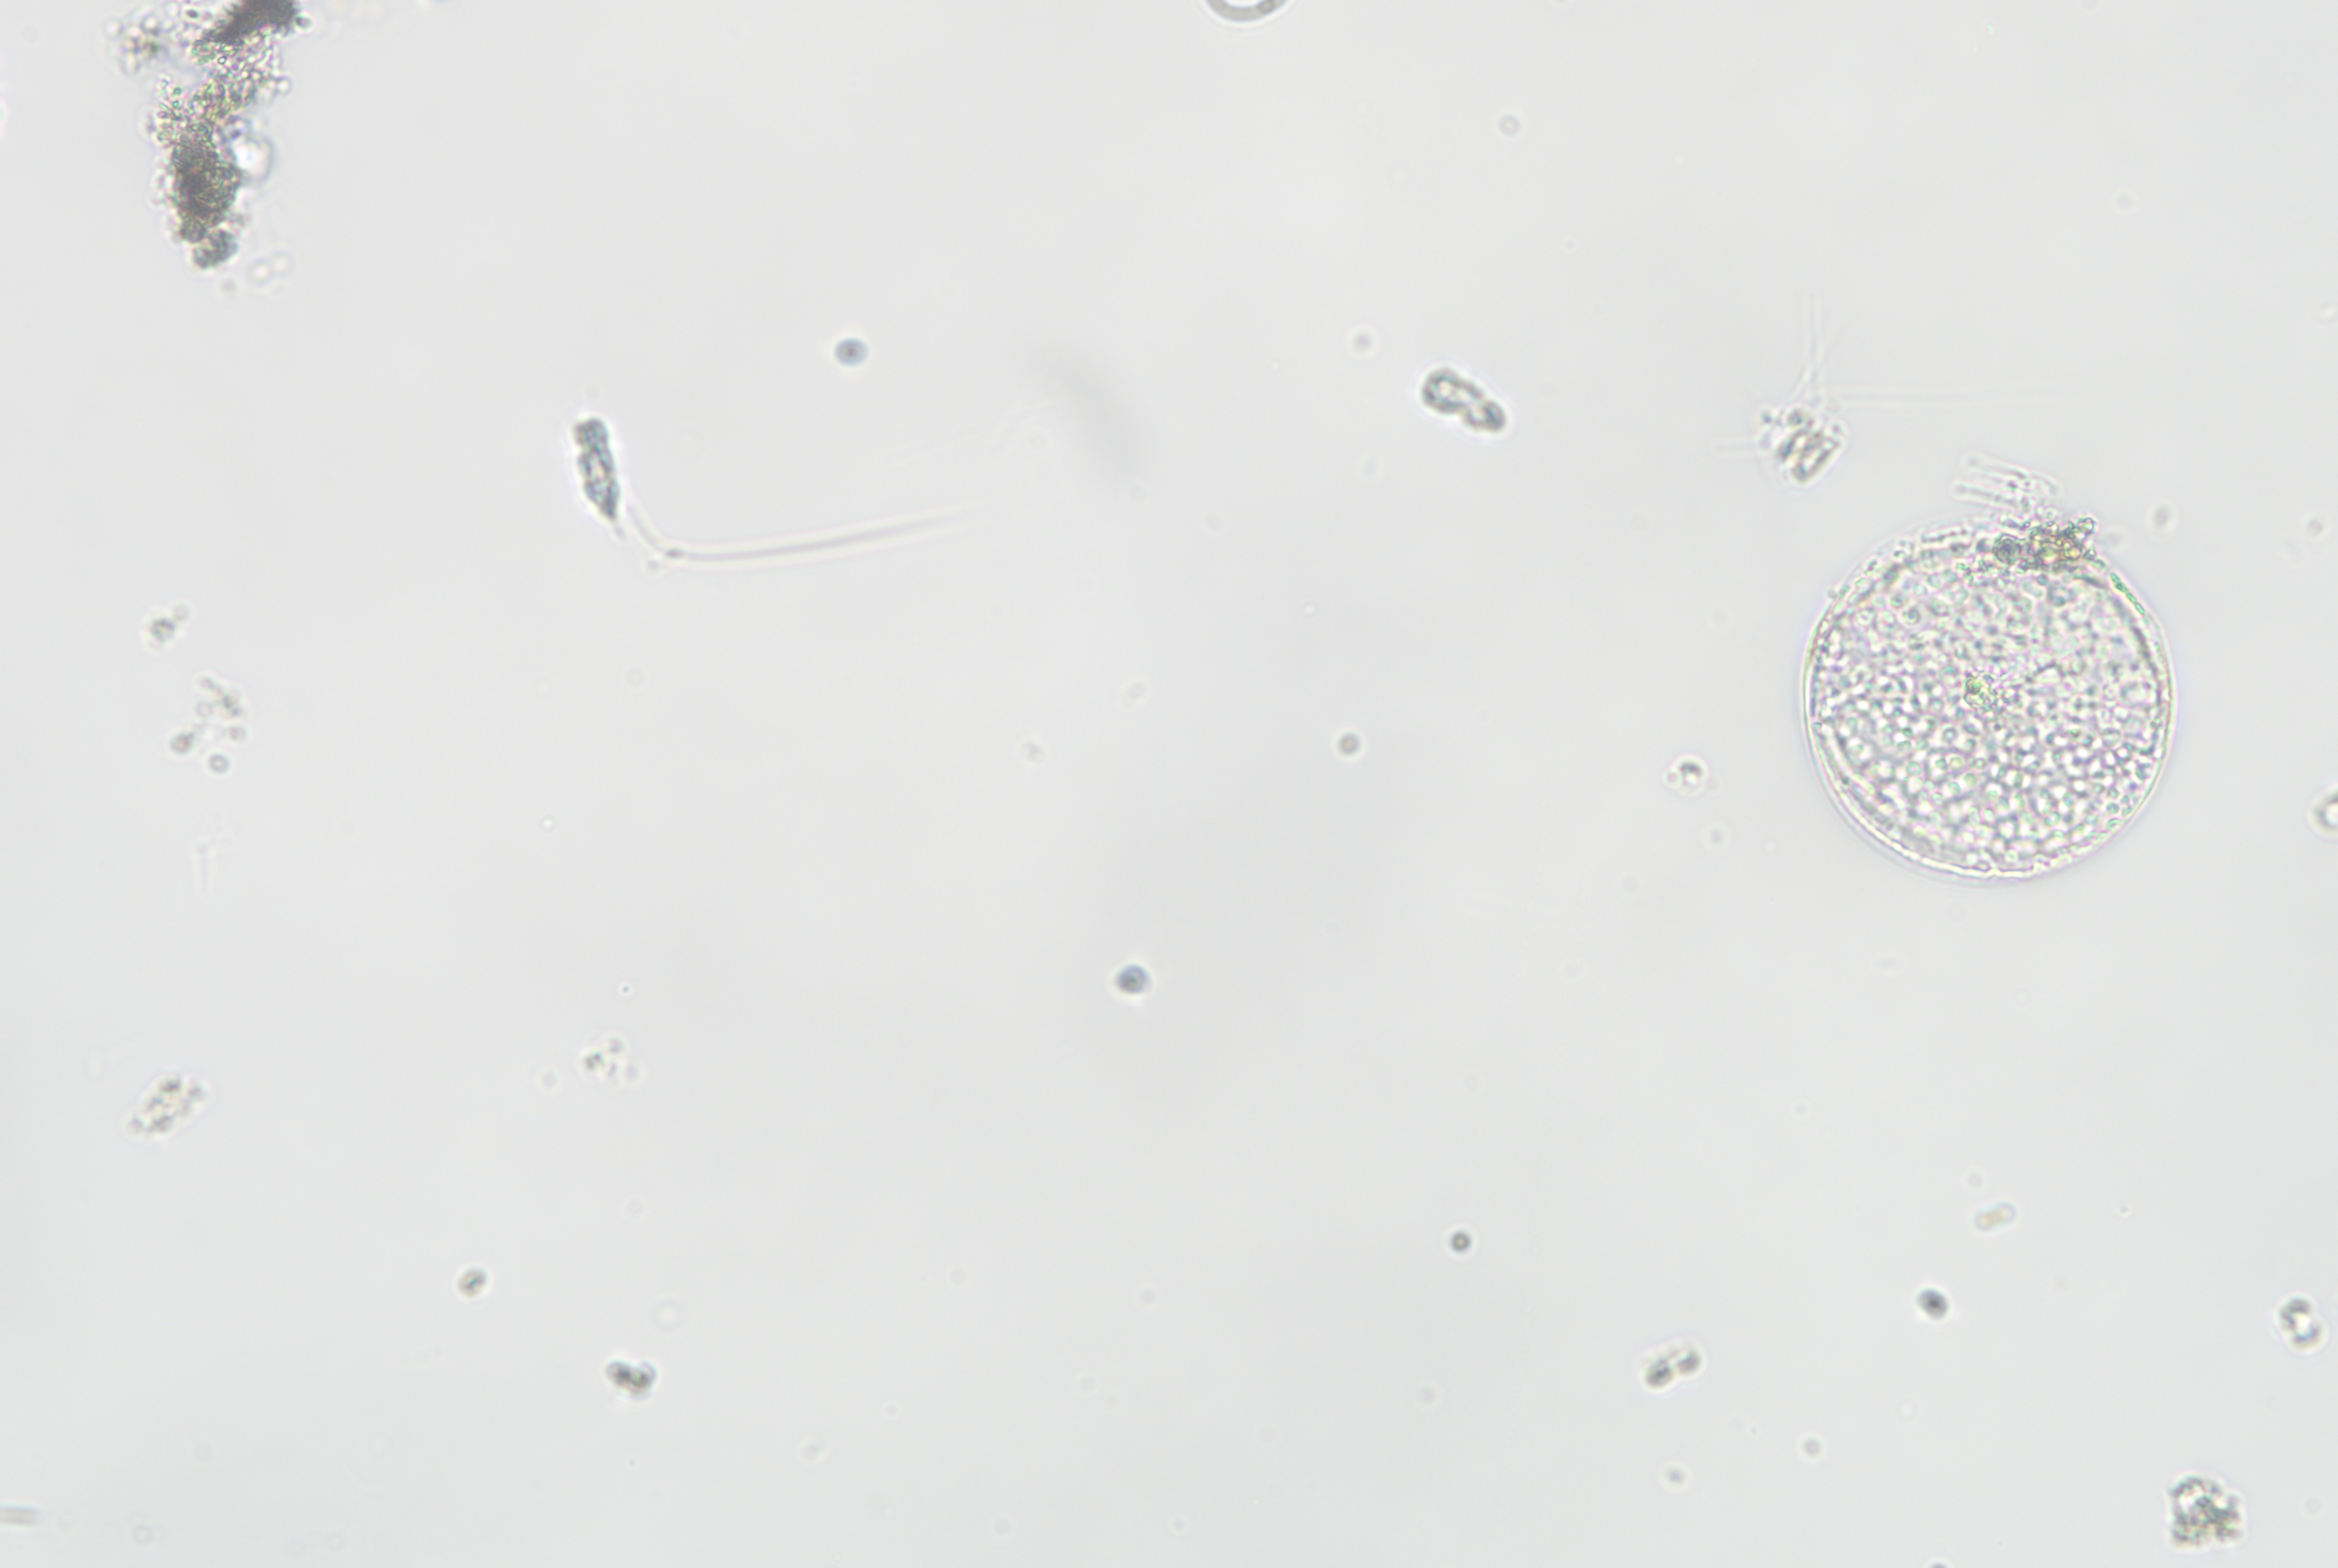coscinodiscus: (1799, 506, 2184, 896)
